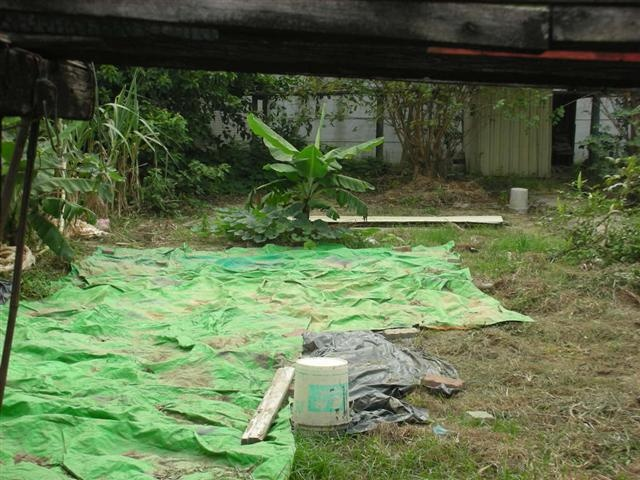bucket: (292, 356, 354, 427), (506, 186, 531, 212)
plastic_bag: (1, 247, 292, 480), (290, 238, 537, 331), (301, 328, 461, 430)
